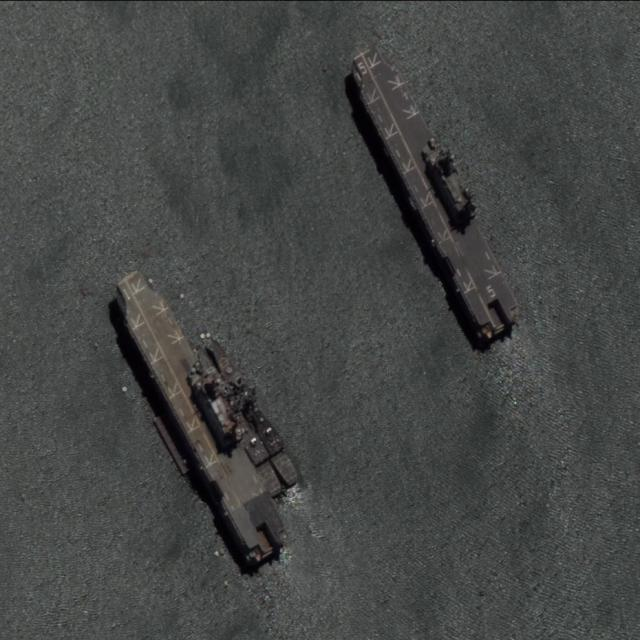Frigate: (205, 330, 300, 489), (192, 340, 286, 498)
Landing: (342, 35, 532, 345), (105, 263, 296, 568)
